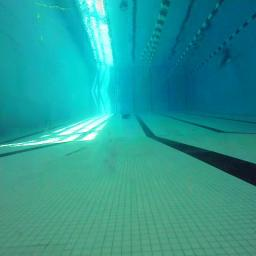Full: (122, 112, 130, 120)
